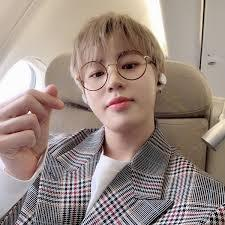earphone: (154, 72, 171, 88), (79, 92, 87, 106)
